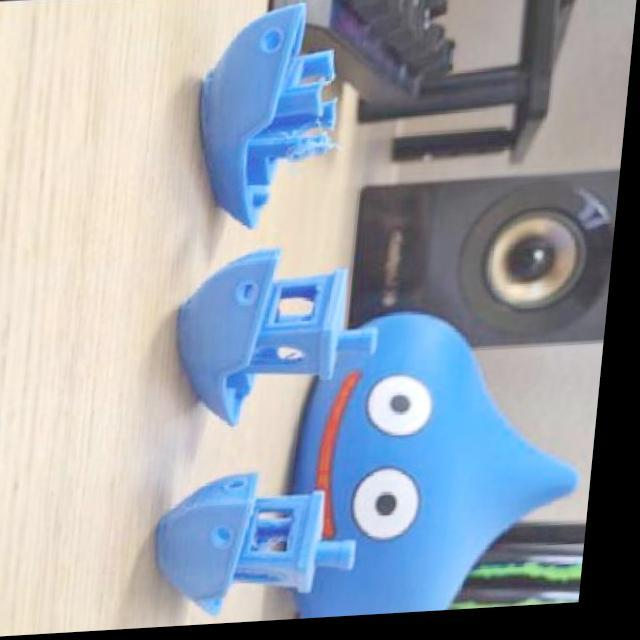spaghetti: (280, 120, 353, 178), (320, 77, 339, 91), (292, 354, 306, 363)
